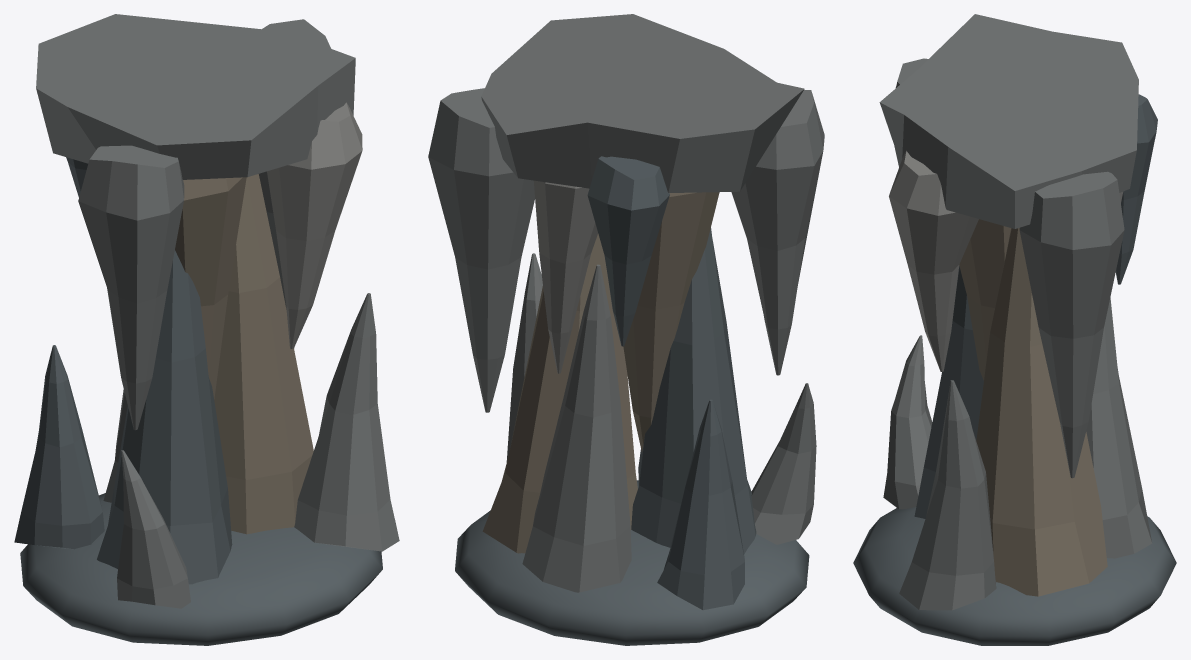
The model's file is estalactites_estalagmites.glb.
The picture shows the model from 3 angles, left to right: view 1: azimuth 30°, elevation 25°; view 2: azimuth 150°, elevation 25°; view 3: azimuth 270°, elevation 25°; orthographic projection. The views are drawn at different scales.
Visible parts, largest first — view 1: Caverna | Calcário | cinza quente, Caverna | Calcário | sombra fria, Caverna | Calcário | bege mineral, Caverna | Calcário | face clara; view 2: Caverna | Calcário | cinza quente, Caverna | Calcário | sombra fria, Caverna | Calcário | bege mineral, Caverna | Calcário | face clara; view 3: Caverna | Calcário | cinza quente, Caverna | Calcário | bege mineral, Caverna | Calcário | sombra fria, Caverna | Calcário | face clara.
Boxes of the visible parts, box(x1,y1,x2,y2) form: Caverna | Calcário | cinza quente: box(36, 14, 399, 608); Caverna | Calcário | sombra fria: box(14, 157, 382, 645); Caverna | Calcário | bege mineral: box(175, 174, 313, 534); Caverna | Calcário | face clara: box(267, 102, 362, 348); Caverna | Calcário | cinza quente: box(428, 14, 824, 592); Caverna | Calcário | sombra fria: box(455, 156, 809, 645); Caverna | Calcário | bege mineral: box(482, 192, 719, 553); Caverna | Calcário | face clara: box(533, 180, 597, 373); Caverna | Calcário | cinza quente: box(879, 14, 1152, 610); Caverna | Calcário | bege mineral: box(959, 219, 1107, 596); Caverna | Calcário | sombra fria: box(853, 94, 1176, 645); Caverna | Calcário | face clara: box(889, 151, 1123, 371).
Bounding box in the file's own units: 0.6808 × 1.09 × 0.62.
